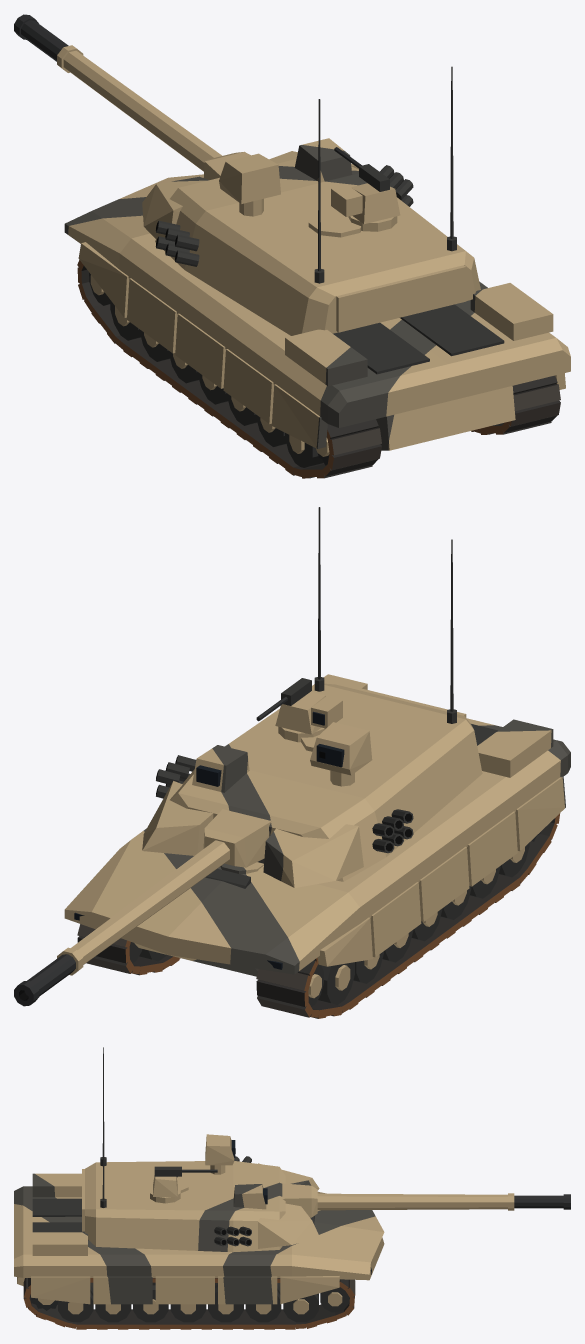
Rendered from tank.glb.
3 views of the same model, one above another, from view 1: azimuth 30°, elevation 25°; view 2: azimuth 150°, elevation 25°; view 3: azimuth 270°, elevation 25° (orthographic). The views are drawn at different scales.
Parts seen in each view (by area): view 1: Hull, Turret, Gun; view 2: Hull, Turret, Gun; view 3: Hull, Turret, Gun.
Part boxes in pixels (x1,y1,x2,y2): Hull: (64, 174, 570, 478); Turret: (142, 66, 480, 335); Gun: (14, 14, 250, 179); Hull: (64, 674, 570, 1018); Turret: (142, 507, 482, 887); Gun: (14, 809, 271, 1006); Hull: (14, 1173, 384, 1329); Turret: (82, 1047, 319, 1252); Gun: (282, 1183, 570, 1217).
Size of the model in its own units: 3 by 4.03 by 9.02.
